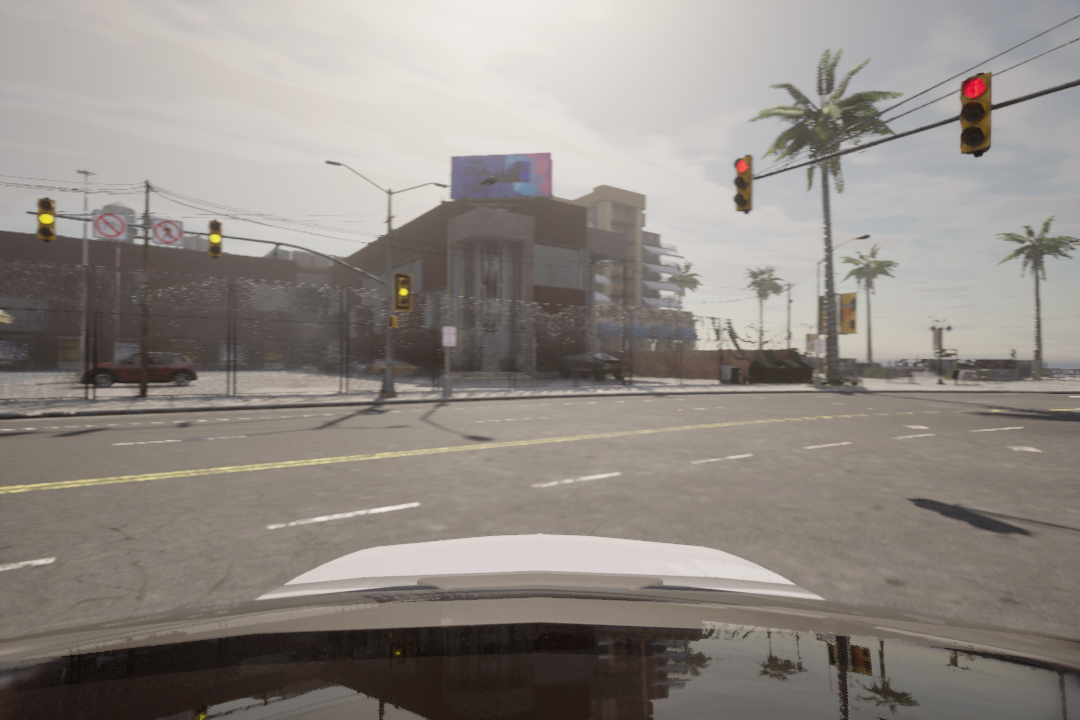TrafficLight: (954, 76, 998, 156), (732, 160, 758, 214), (392, 266, 415, 314), (205, 217, 226, 258), (37, 197, 56, 241)
TrafficSign: (94, 213, 127, 242), (151, 217, 183, 246)
